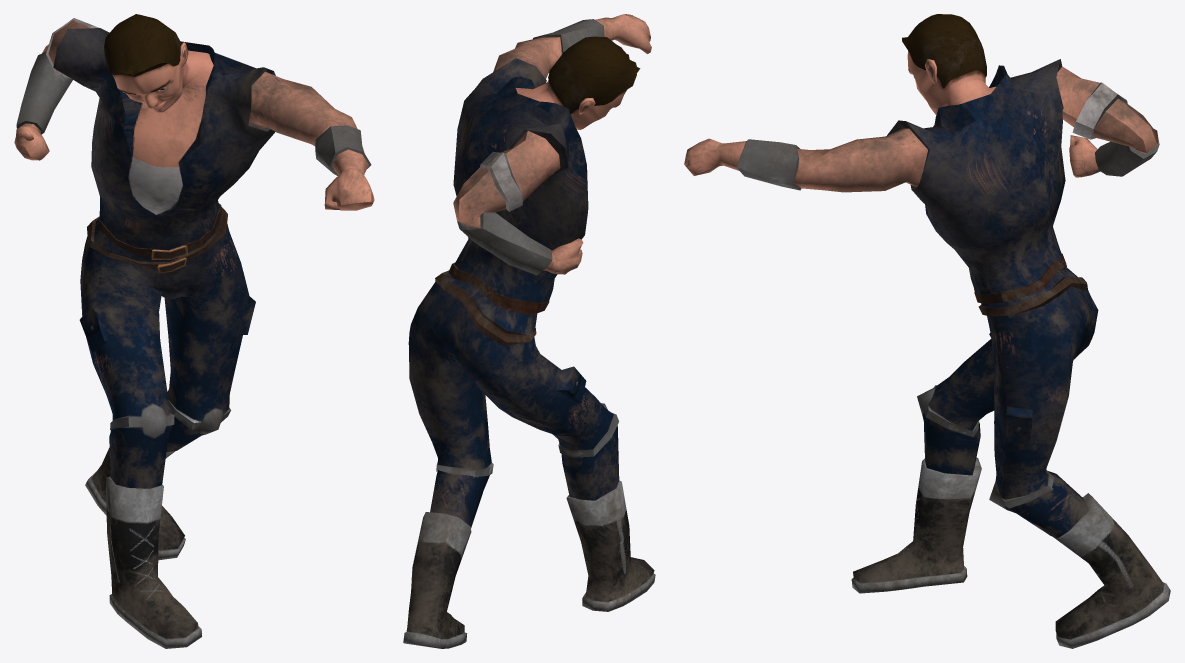
The model's file is Anim_ataque_d3_jugador.0035.obj.
The picture shows the model from 3 angles, left to right: view 1: azimuth 30°, elevation 25°; view 2: azimuth 150°, elevation 25°; view 3: azimuth 270°, elevation 25°; orthographic projection. The views are drawn at different scales.
Visible parts, largest first — view 1: polySurface1; view 2: polySurface1; view 3: polySurface1.
Boxes of the visible parts, box(x1,y1,x2,y2) form: polySurface1: box(14, 14, 374, 648); polySurface1: box(403, 14, 655, 648); polySurface1: box(684, 14, 1170, 648).
Bounding box in the file's own units: 3.05 × 8.72 × 6.58.
